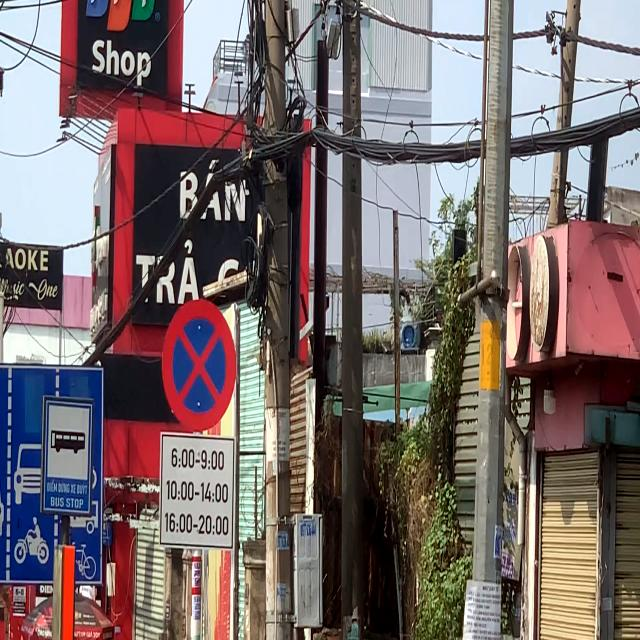P.130: (161, 298, 237, 432)
R.434: (43, 398, 93, 520)
